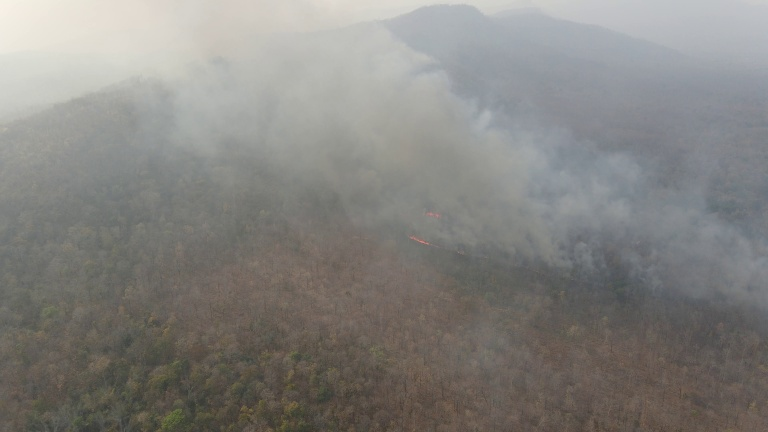fire: (404, 233, 436, 249), (422, 208, 445, 222)
smoke: (127, 4, 587, 264)
